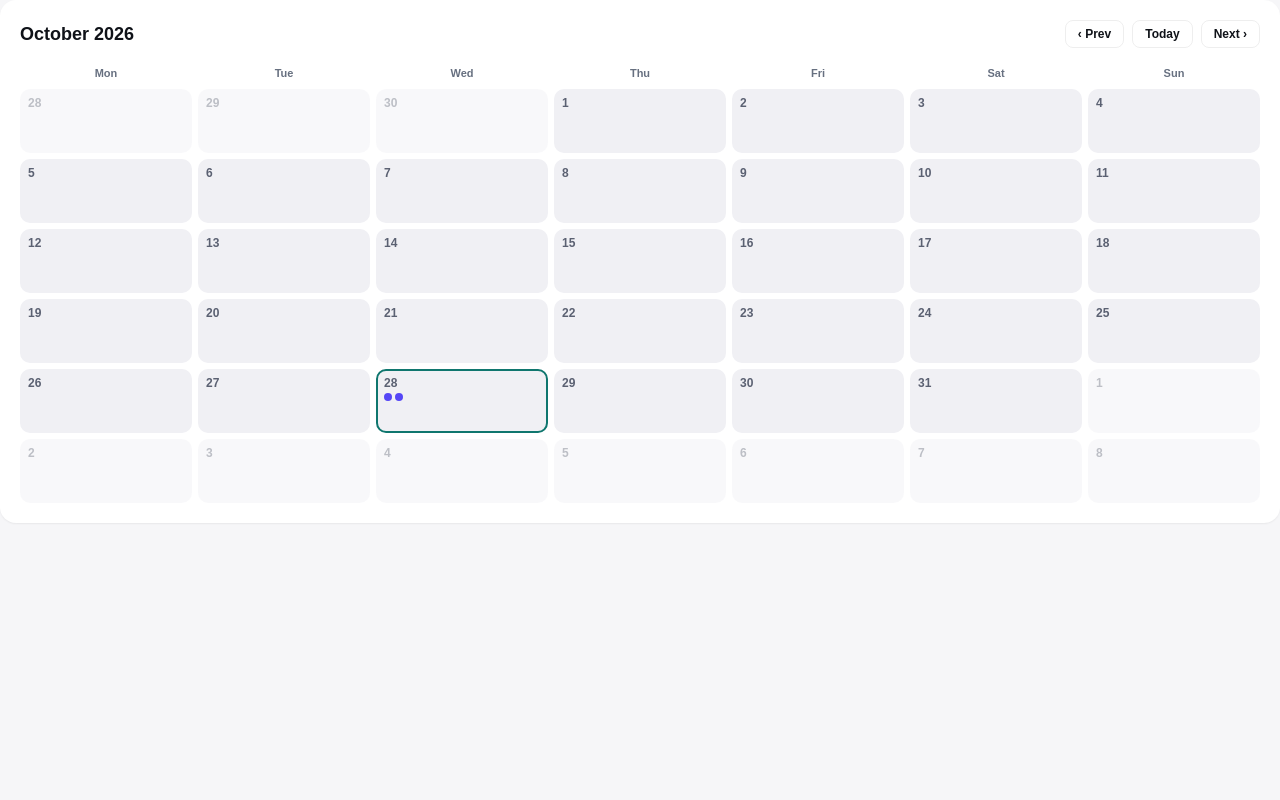
it: SubscriptionsCalendar › badges automatic items Auto in the popover, and not reminders
The image size is (1280, 800).
Click the cell named "2 scheduled items": (462, 401) [376,369,548,433]
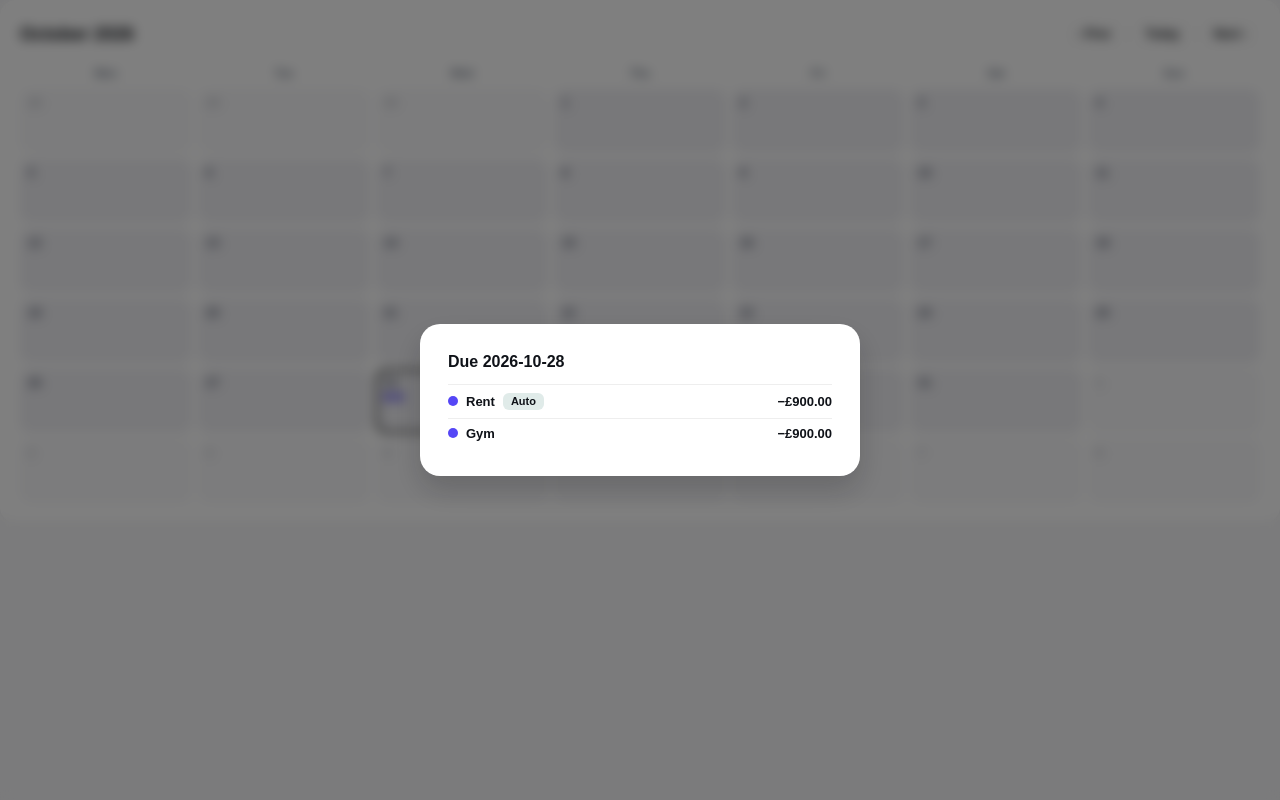
Expected: the text "Auto" is shown once, [503,393,544,410]
